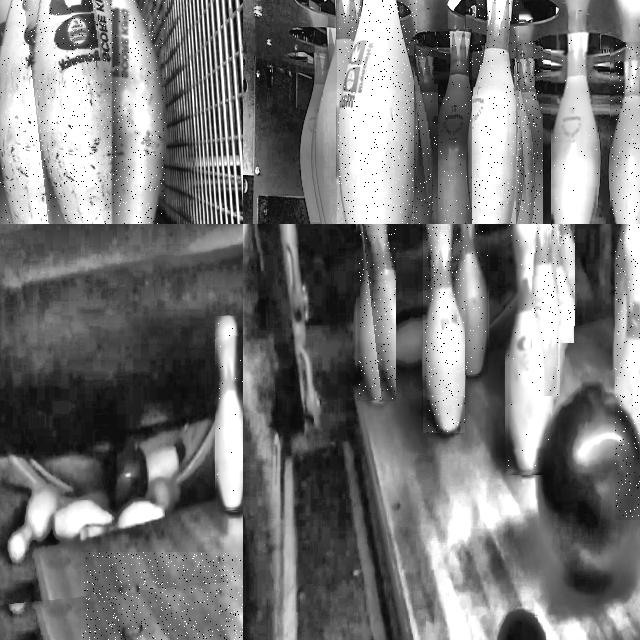bowling-ball: (538, 383, 640, 593)
bowling-pins: (23, 0, 109, 224), (85, 0, 165, 224), (338, 0, 416, 224), (468, 0, 519, 224), (314, 0, 361, 224), (508, 224, 550, 472), (552, 31, 597, 224), (425, 224, 464, 433), (433, 30, 469, 224), (360, 224, 395, 400), (615, 224, 640, 444), (611, 42, 640, 224), (216, 316, 243, 509), (454, 224, 488, 375), (299, 45, 327, 224), (516, 41, 543, 224), (532, 224, 560, 396), (414, 44, 435, 224), (555, 224, 574, 325)
